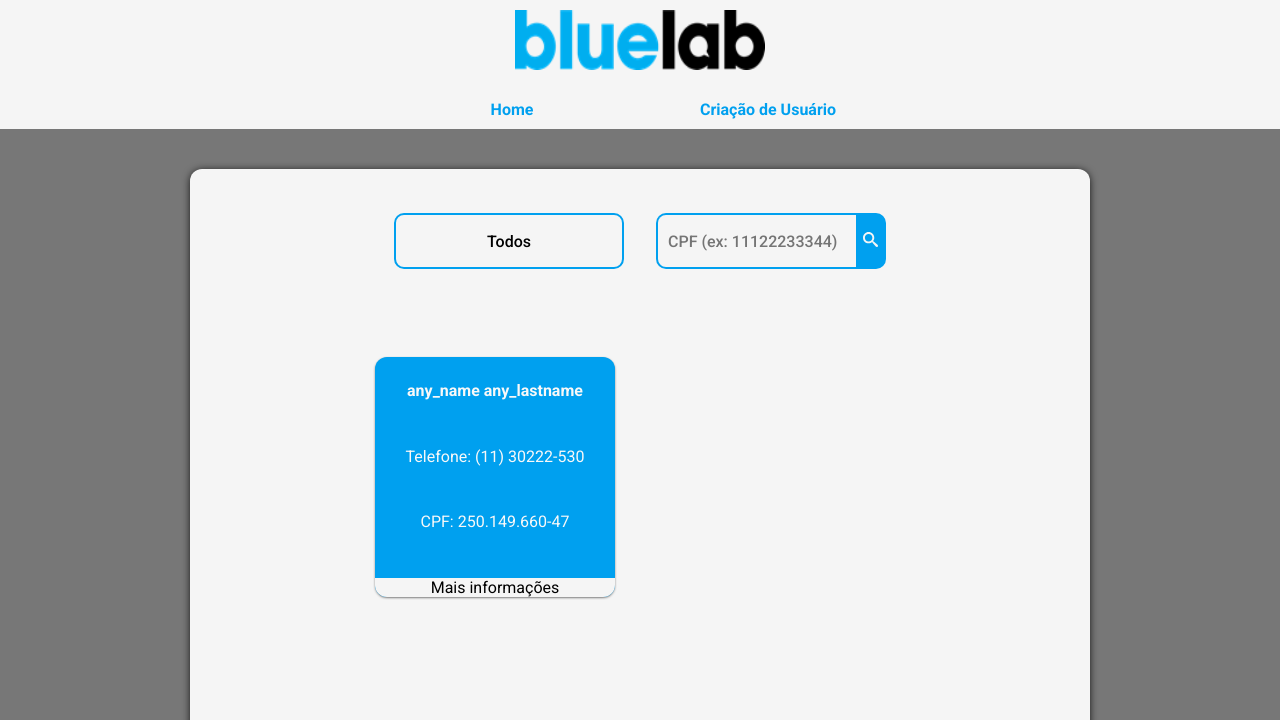
Test case: Home › should be open modals correctly
This screenshot has width=1280, height=720.
Expected: the text "any_name any_lastname" is shown, [407,381,583,400]
What coordinates should you click on to do the following:
click the button with test id "moreInfo-1"
I would click on:
 (495, 588)
Its box is [375,578,615,597].
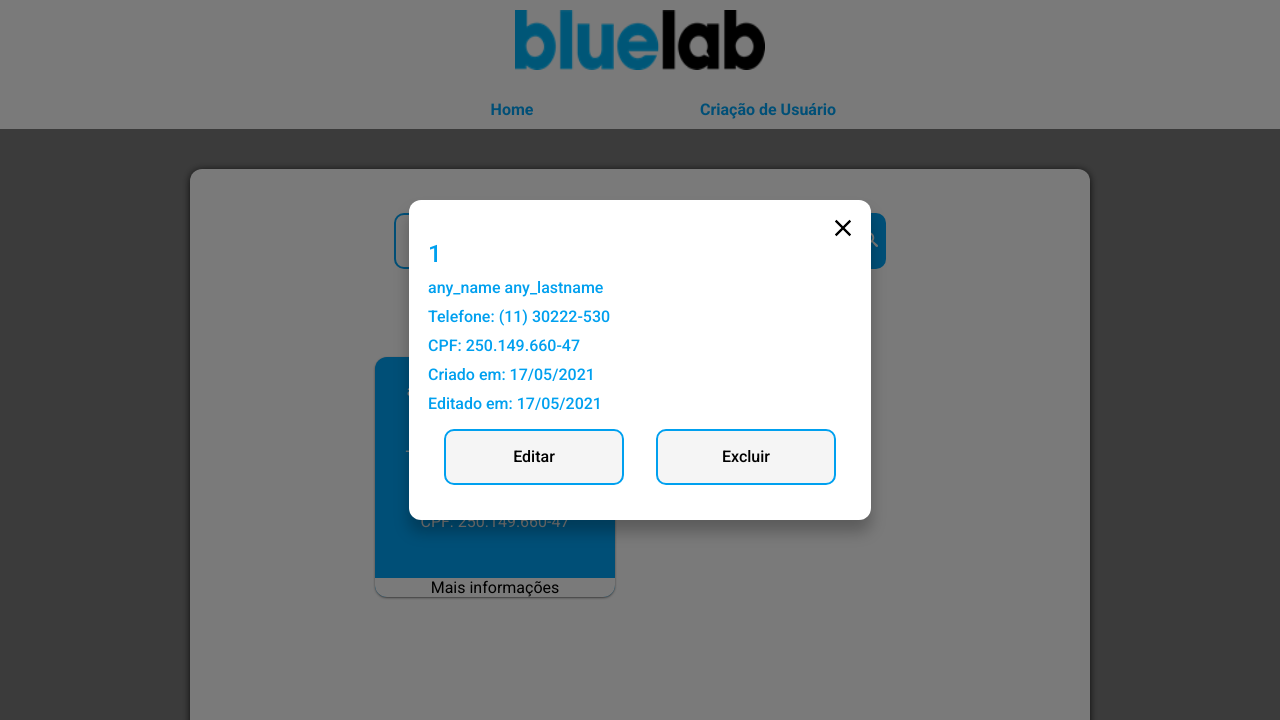
Expected: the button with test id "edit-1" is shown
Expected: the button with test id "delete-1" is shown, [656,428,836,484]
What coordinates should you click on to do the following:
click the button with test id "edit-1"
I would click on:
 (534, 456)
Its box is [444,428,624,484].
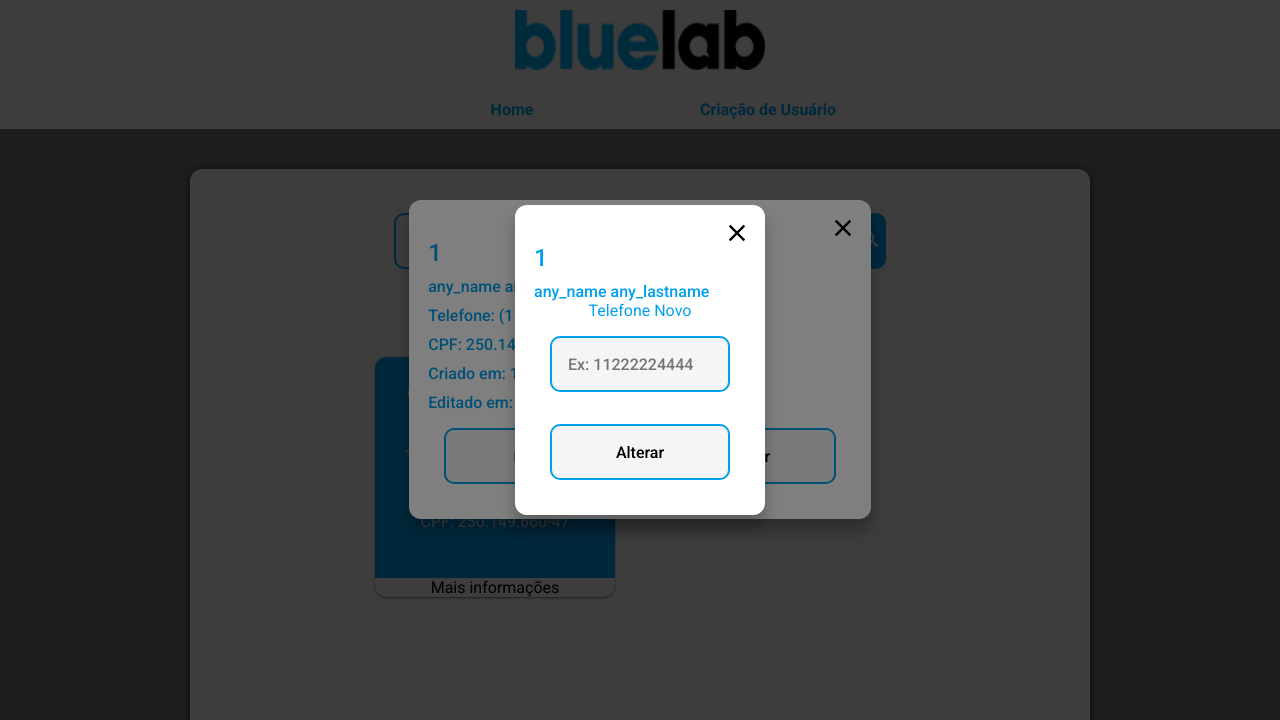
Expected: the button with test id "editButton-1" is shown, [550,424,730,480]
